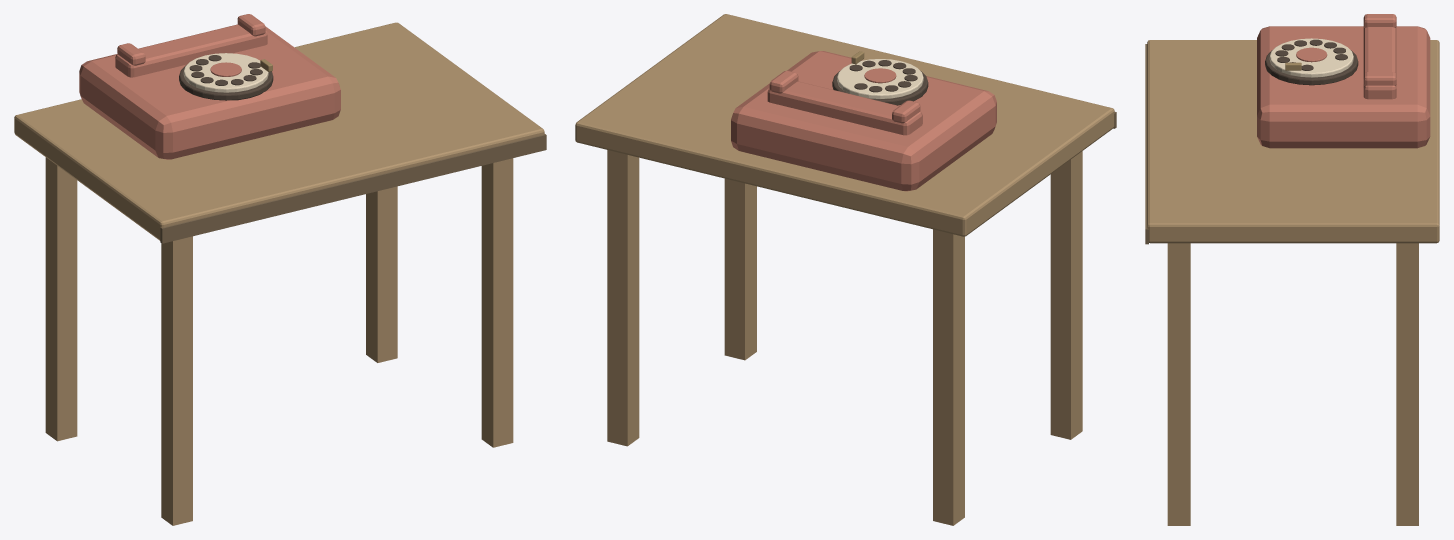
Rendered from telephone_station.glb.
3 renders of one model, left to right at view 1: azimuth 30°, elevation 25°; view 2: azimuth 150°, elevation 25°; view 3: azimuth 270°, elevation 25°, orthographic. The views are drawn at different scales.
Parts seen in each view (by area): view 1: TelephoneStationMesh; view 2: TelephoneStationMesh; view 3: TelephoneStationMesh.
Part boxes in pixels (x1,y1,x2,y2): TelephoneStationMesh: (14, 14, 546, 525); TelephoneStationMesh: (575, 14, 1116, 525); TelephoneStationMesh: (1145, 14, 1439, 525).
Bounding box in the file's own units: 0.48 × 0.456 × 0.322.
